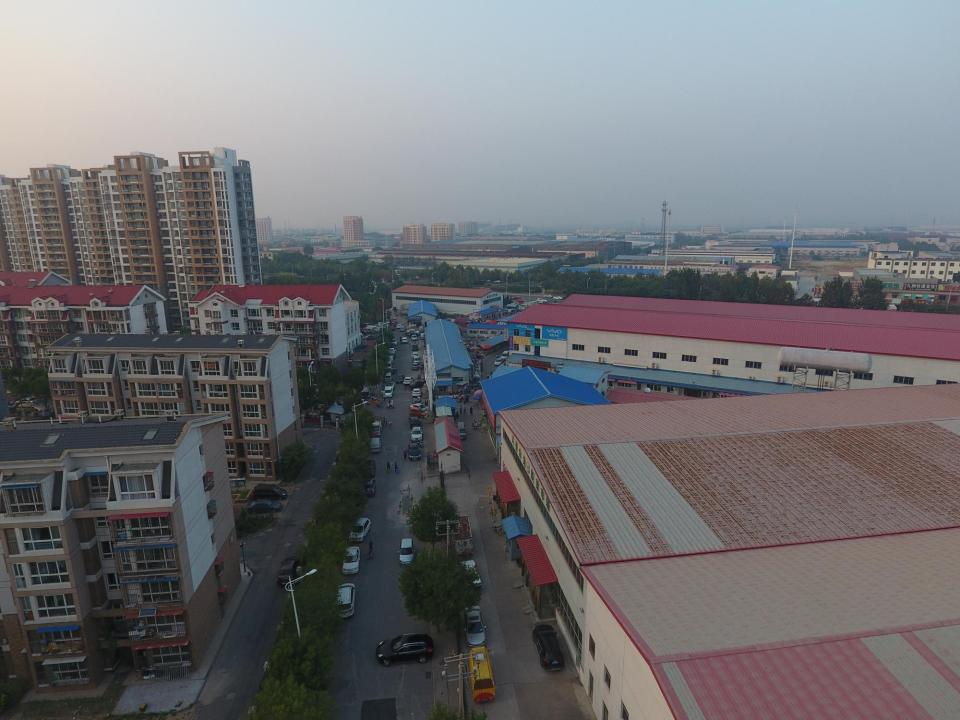bus: (466, 647, 495, 703)
car: (376, 634, 433, 666), (532, 624, 564, 670), (463, 606, 487, 648), (335, 583, 356, 618), (276, 556, 300, 586), (458, 560, 482, 589), (348, 518, 370, 542), (247, 499, 282, 514), (342, 546, 360, 575), (253, 485, 287, 500), (398, 538, 415, 566), (362, 460, 376, 477), (409, 407, 428, 419), (362, 479, 376, 495), (408, 444, 420, 460), (410, 427, 423, 441), (410, 403, 430, 412), (408, 417, 420, 428), (409, 380, 425, 388), (380, 388, 392, 397), (384, 360, 393, 370), (406, 330, 420, 336), (406, 329, 420, 335), (412, 388, 421, 397), (395, 374, 404, 383), (384, 382, 394, 390), (363, 334, 376, 340), (494, 358, 503, 366), (404, 377, 414, 384), (387, 354, 394, 364), (387, 346, 395, 354), (396, 323, 407, 328), (390, 337, 396, 346), (411, 363, 418, 370), (412, 352, 419, 359), (412, 344, 418, 351), (401, 337, 408, 343), (392, 316, 398, 323), (375, 323, 383, 328), (553, 296, 562, 300), (400, 326, 406, 332), (391, 322, 397, 328), (544, 294, 552, 298), (411, 335, 417, 340), (389, 326, 394, 331), (494, 280, 501, 283), (485, 280, 491, 282)
truck: (450, 515, 474, 558), (370, 420, 382, 435)
van: (457, 422, 467, 439), (370, 438, 382, 452), (361, 386, 372, 397), (366, 324, 379, 330), (501, 351, 509, 360), (362, 326, 374, 332), (385, 373, 392, 382), (412, 356, 419, 364), (378, 322, 389, 326), (419, 326, 425, 332)
